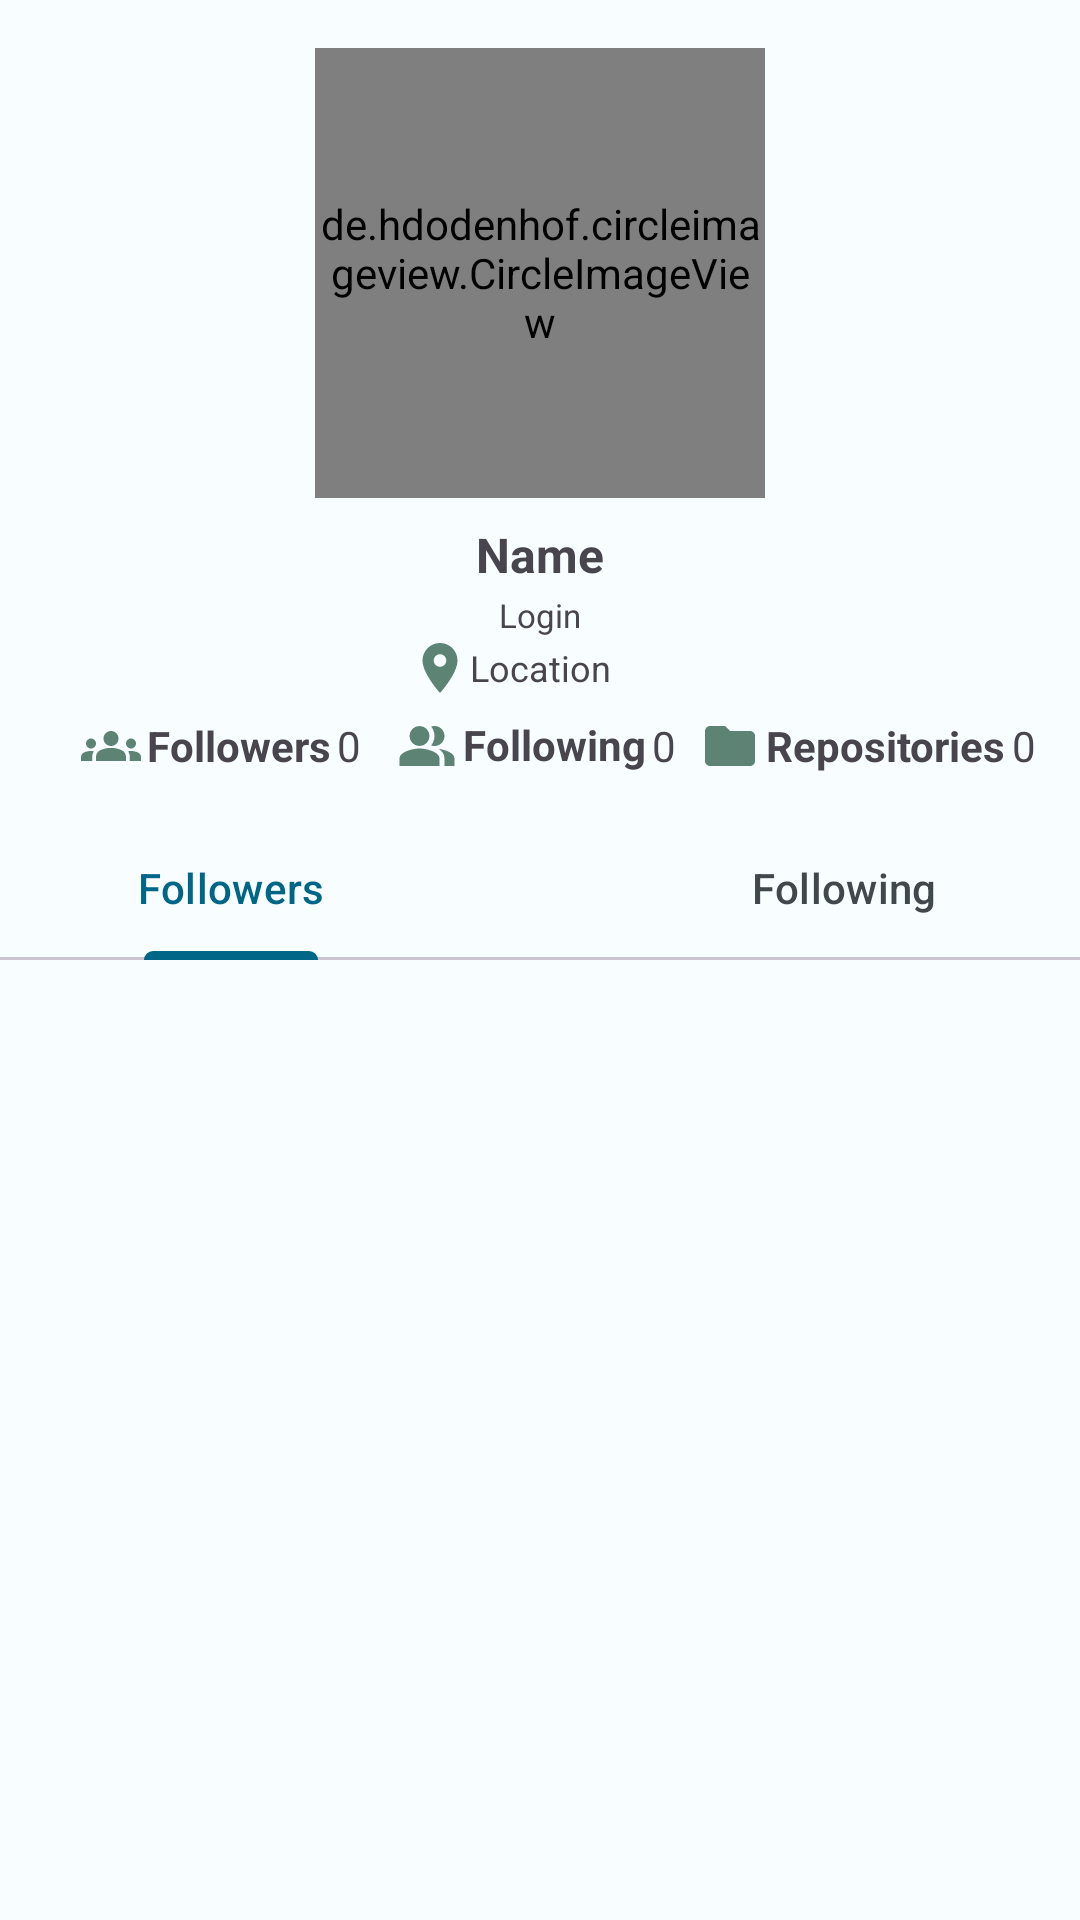

Locate icon controls on the screen. Image size 1080px×1920px, boxes as [x1,y1,x2,y2].
folder: [705,726,755,766]
groups: [81,731,141,761]
people: [399,726,455,766]
